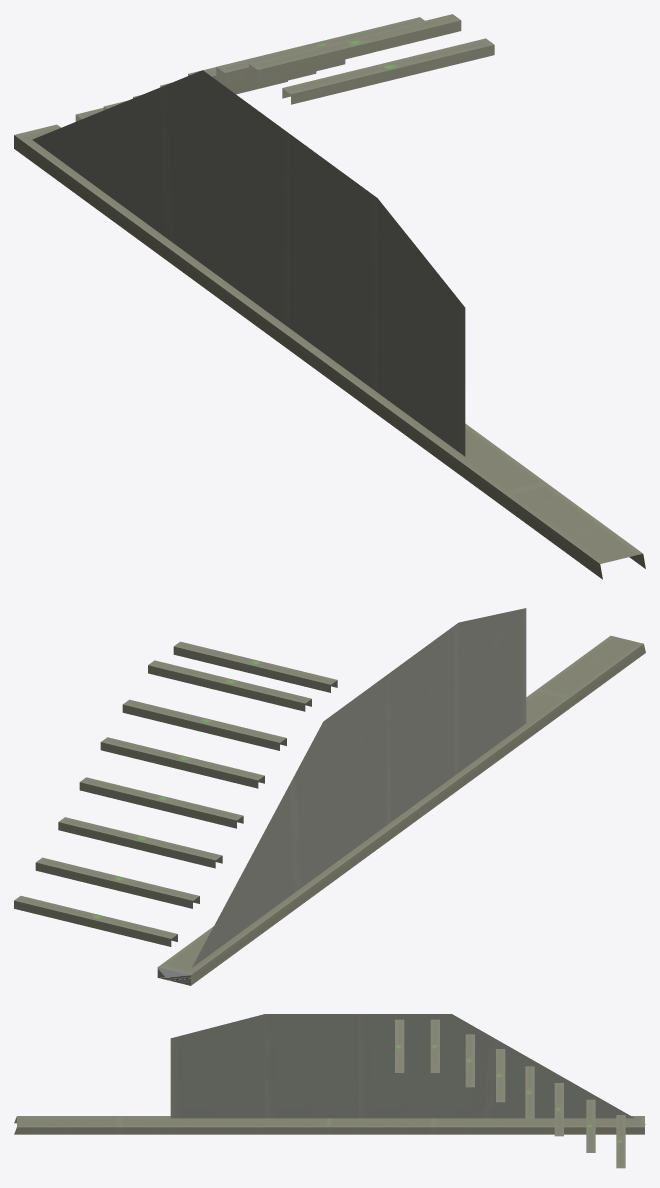
File: pref_sm_city_riverwall02_snow_lv3.fbx
The picture shows the model from 3 angles, top to bottom: view 1: azimuth 30°, elevation 25°; view 2: azimuth 150°, elevation 25°; view 3: azimuth 270°, elevation 25°; orthographic projection. The views are drawn at different scales.
Parts seen in each view (by area): view 1: pref_sm_city_riverwall02_snow_lv3; view 2: pref_sm_city_riverwall02_snow_lv3; view 3: pref_sm_city_riverwall02_snow_lv3.
Boxes of the visible parts, x1,y1,x2,y2 form: pref_sm_city_riverwall02_snow_lv3: (14, 14, 645, 579); pref_sm_city_riverwall02_snow_lv3: (14, 608, 645, 985); pref_sm_city_riverwall02_snow_lv3: (14, 1014, 645, 1168).
Size of the model in its own units: 2.94 by 2.44 by 12.16.
